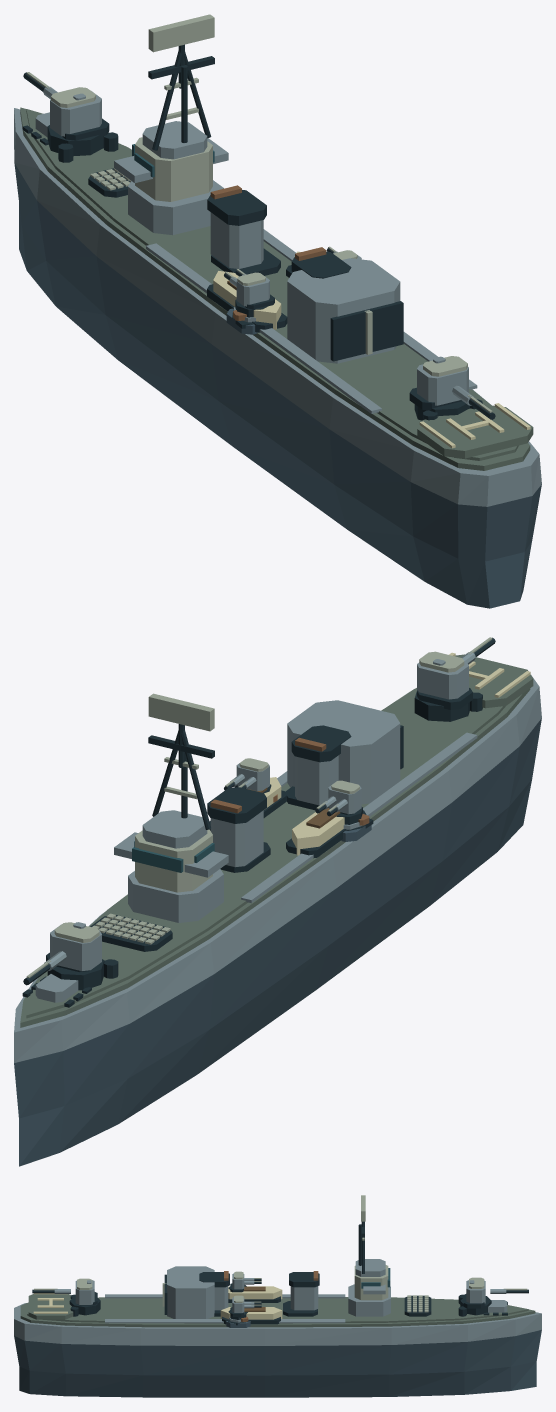
The model's file is historic-spruance.glb.
3 views of the same model, one above another, from view 1: azimuth 30°, elevation 25°; view 2: azimuth 150°, elevation 25°; view 3: azimuth 270°, elevation 25° (orthographic). The views are drawn at different scales.
Parts seen in each view (by area): view 1: historic-spruance-historic-spruance-geometry, historic-spruance-part_bridge.141-geometry, historic-spruance-historic_funnel_0.134-geometry, historic-spruance-turret_main_0.110-geometry, historic-spruance-turret_main_1.101-geometry, historic-spruance-turret_aa_aa-port.143-geometry, historic-spruance-historic_funnel_1.079-geometry, historic-spruance-naval_launcher_0.016-geometry; view 2: historic-spruance-historic-spruance-geometry, historic-spruance-part_bridge.141-geometry, historic-spruance-historic_funnel_0.134-geometry, historic-spruance-turret_main_1.101-geometry, historic-spruance-historic_funnel_1.079-geometry, historic-spruance-turret_main_0.110-geometry, historic-spruance-naval_launcher_0.016-geometry, historic-spruance-turret_aa_aa-port.143-geometry, historic-spruance-turret_aa_aa-starboard.139-geometry; view 3: historic-spruance-historic-spruance-geometry, historic-spruance-part_bridge.141-geometry, historic-spruance-historic_funnel_0.134-geometry, historic-spruance-turret_main_0.110-geometry, historic-spruance-turret_main_1.101-geometry, historic-spruance-historic_funnel_1.079-geometry, historic-spruance-naval_launcher_0.016-geometry, historic-spruance-turret_aa_aa-starboard.139-geometry, historic-spruance-turret_aa_aa-port.143-geometry.
Boxes of the visible parts, <box> form: historic-spruance-historic-spruance-geometry: <box>14,107,541,608</box>; historic-spruance-part_bridge.141-geometry: <box>114,14,228,235</box>; historic-spruance-historic_funnel_0.134-geometry: <box>207,185,280,275</box>; historic-spruance-turret_main_0.110-geometry: <box>23,72,109,156</box>; historic-spruance-turret_main_1.101-geometry: <box>409,356,495,420</box>; historic-spruance-turret_aa_aa-port.143-geometry: <box>224,269,274,317</box>; historic-spruance-historic_funnel_1.079-geometry: <box>291,247,351,278</box>; historic-spruance-naval_launcher_0.016-geometry: <box>88,168,130,197</box>; historic-spruance-historic-spruance-geometry: <box>14,652,541,1166</box>; historic-spruance-part_bridge.141-geometry: <box>114,693,228,922</box>; historic-spruance-historic_funnel_0.134-geometry: <box>207,787,270,872</box>; historic-spruance-turret_main_1.101-geometry: <box>414,637,495,721</box>; historic-spruance-historic_funnel_1.079-geometry: <box>285,725,351,810</box>; historic-spruance-turret_main_0.110-geometry: <box>23,922,104,990</box>; historic-spruance-naval_launcher_0.016-geometry: <box>90,913,172,951</box>; historic-spruance-turret_aa_aa-port.143-geometry: <box>315,780,362,824</box>; historic-spruance-turret_aa_aa-starboard.139-geometry: <box>224,758,271,793</box>; historic-spruance-historic-spruance-geometry: <box>14,1266,541,1397</box>; historic-spruance-part_bridge.141-geometry: <box>348,1195,390,1316</box>; historic-spruance-historic_funnel_0.134-geometry: <box>283,1271,319,1316</box>; historic-spruance-turret_main_0.110-geometry: <box>460,1277,528,1315</box>; historic-spruance-turret_main_1.101-geometry: <box>32,1278,100,1315</box>; historic-spruance-historic_funnel_1.079-geometry: <box>199,1271,229,1316</box>; historic-spruance-naval_launcher_0.016-geometry: <box>404,1295,431,1316</box>; historic-spruance-turret_aa_aa-starboard.139-geometry: <box>228,1295,261,1319</box>; historic-spruance-turret_aa_aa-port.143-geometry: <box>228,1271,261,1292</box>.
Size of the model in its own units: 0.6338 by 1.58 by 4.11.
